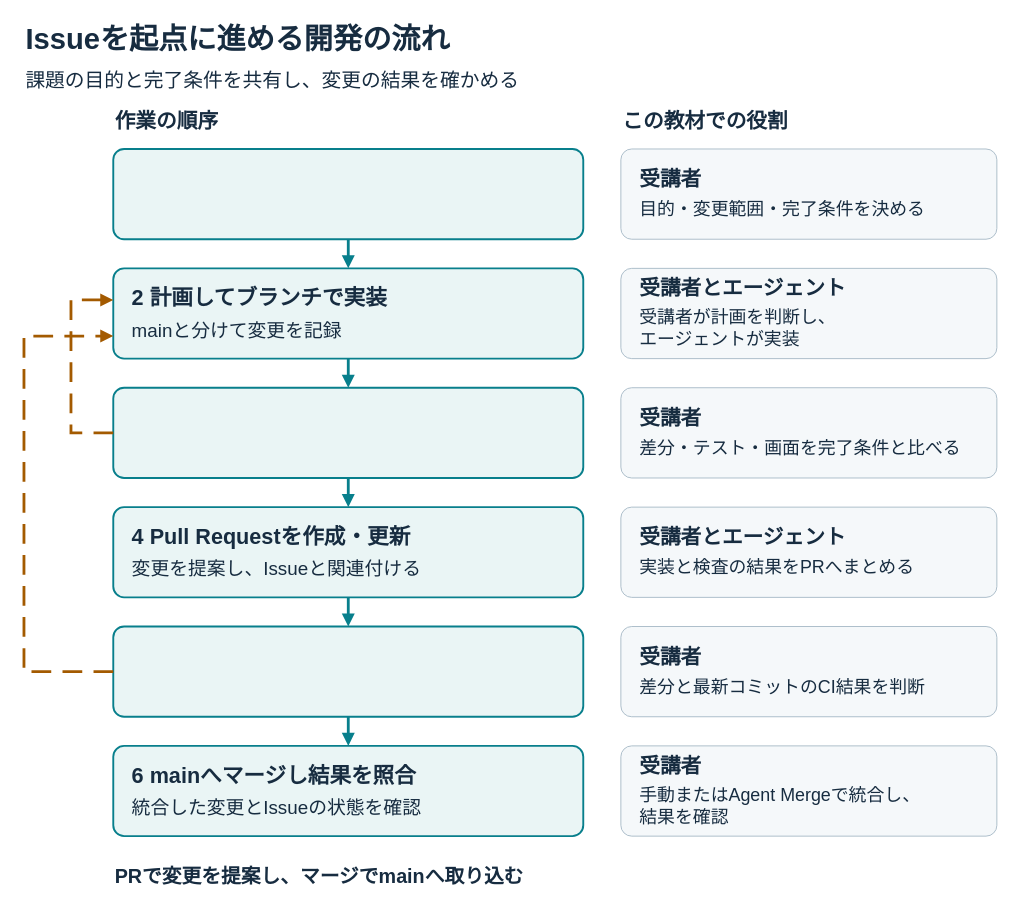
Some shapes in this 1013 by 913 pixel diagram are drawn without their labels. Here are the shapes that lost their labels. From the top down, the centre of each, then its label:
the point at 348,194: 1 Issueで課題を共有 何を、なぜ変えるかを記録
the point at 348,432: 3 実装結果を確認 期待と違えば2へ戻る
the point at 348,671: 5 PRをレビューしCIを確認 指摘・CI失敗は2へ戻る
